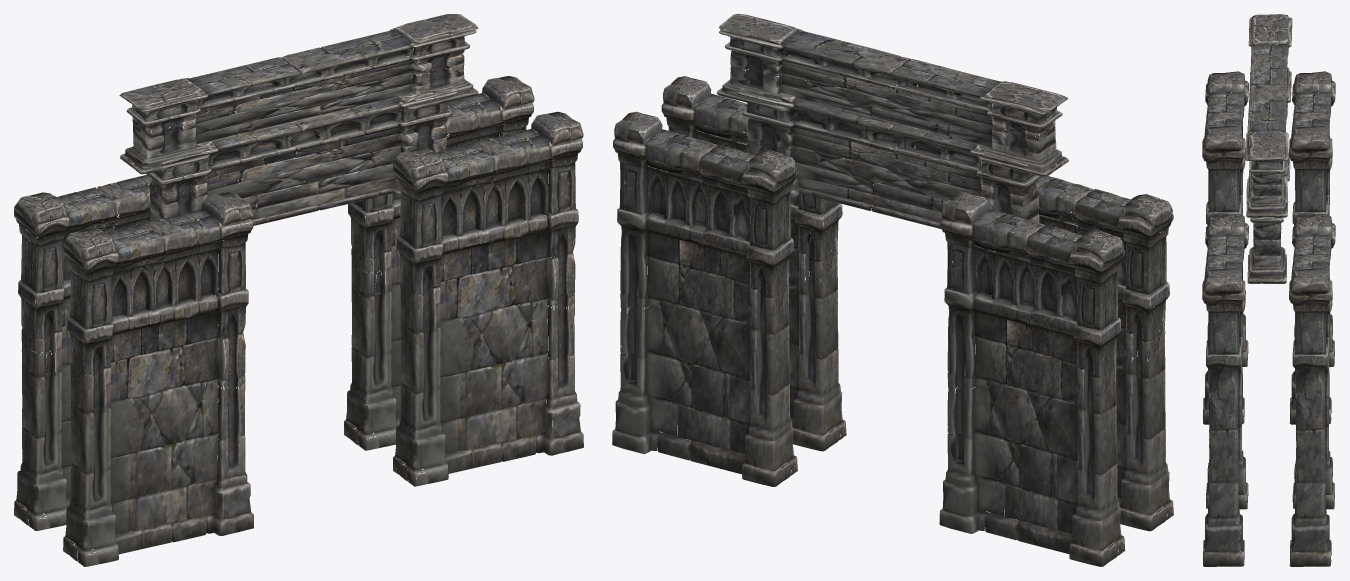
Rendered from Valoria_MainGate_StoneDefV2.glb.
The picture shows the model from 3 angles, left to right: view 1: azimuth 30°, elevation 25°; view 2: azimuth 150°, elevation 25°; view 3: azimuth 270°, elevation 25°; orthographic projection. The views are drawn at different scales.
Visible parts, largest first — view 1: Gate pylon · 00.001, Gate pylon · 00.003, Gate crown · 00, Gate bridge · 00, Gate pylon · 00.002, Gate pylon · 00; view 2: Gate pylon · 00.002, Gate pylon · 00, Gate crown · 00, Gate bridge · 00, Gate pylon · 00.001, Gate pylon · 00.003; view 3: Gate pylon · 00, Gate pylon · 00.003, Gate crown · 00, Gate pylon · 00.002, Gate pylon · 00.001, Gate bridge · 00.
Boxes of the visible parts, bbox=[...] form: Gate pylon · 00.001: bbox=[63, 192, 253, 566]; Gate pylon · 00.003: bbox=[393, 111, 583, 486]; Gate crown · 00: bbox=[119, 14, 478, 174]; Gate bridge · 00: bbox=[147, 84, 458, 251]; Gate pylon · 00.002: bbox=[14, 173, 196, 530]; Gate pylon · 00: bbox=[344, 76, 534, 450]; Gate pylon · 00.002: bbox=[939, 191, 1125, 566]; Gate pylon · 00: bbox=[612, 111, 797, 486]; Gate crown · 00: bbox=[716, 14, 1068, 176]; Gate bridge · 00: bbox=[737, 86, 1042, 254]; Gate pylon · 00.001: bbox=[993, 175, 1173, 531]; Gate pylon · 00.003: bbox=[661, 76, 846, 451]; Gate pylon · 00: bbox=[1289, 214, 1335, 566]; Gate pylon · 00.003: bbox=[1202, 213, 1248, 566]; Gate crown · 00: bbox=[1245, 14, 1292, 217]; Gate pylon · 00.002: bbox=[1289, 71, 1335, 424]; Gate pylon · 00.001: bbox=[1202, 71, 1248, 424]; Gate bridge · 00: bbox=[1247, 75, 1290, 283].
Bounding box in the file's own units: 3.99 × 3.24 × 1.05.
1 material, 1 textured.
